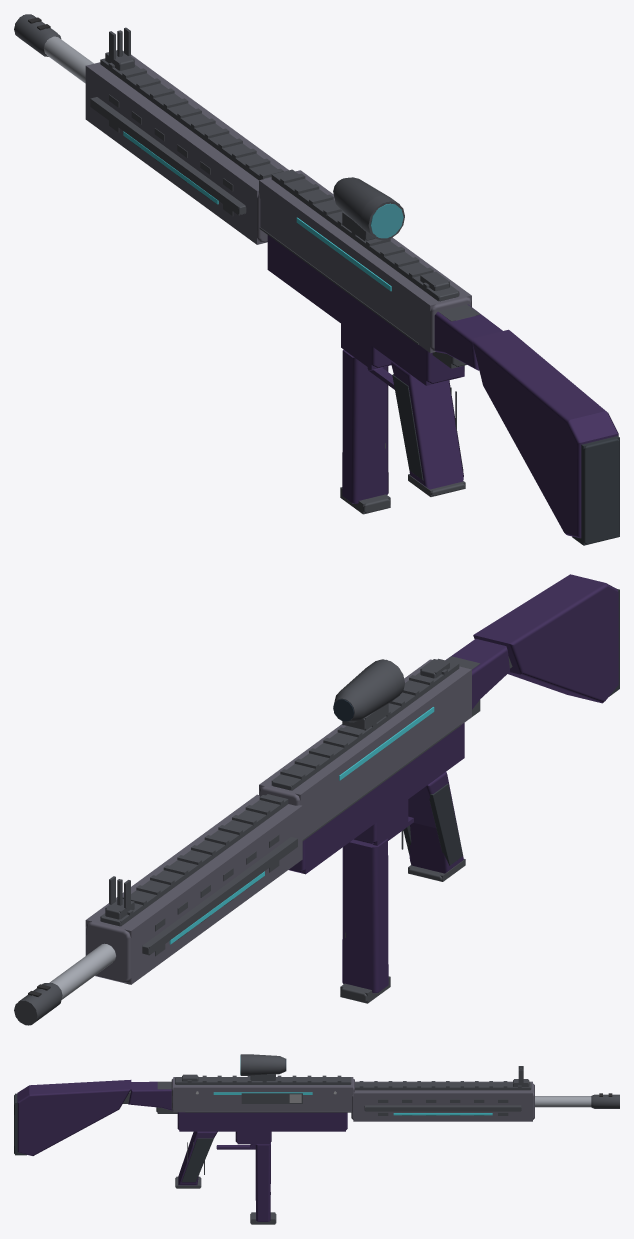
File: b_crest.glb
3 renders of one model, top to bottom at view 1: azimuth 30°, elevation 25°; view 2: azimuth 150°, elevation 25°; view 3: azimuth 270°, elevation 25°, orthographic. The views are drawn at different scales.
Visible parts, largest first — view 1: L0, L1; view 2: L0, L1; view 3: L0, L1.
Part boxes in pixels (x1,y1,x2,y2): L0: [14, 14, 619, 544]; L1: [15, 15, 619, 545]; L0: [14, 574, 619, 1025]; L1: [14, 589, 619, 1025]; L0: [14, 1054, 619, 1223]; L1: [15, 1055, 619, 1224].
Size of the model in its own units: 0.06 by 0.306 by 1.01.
